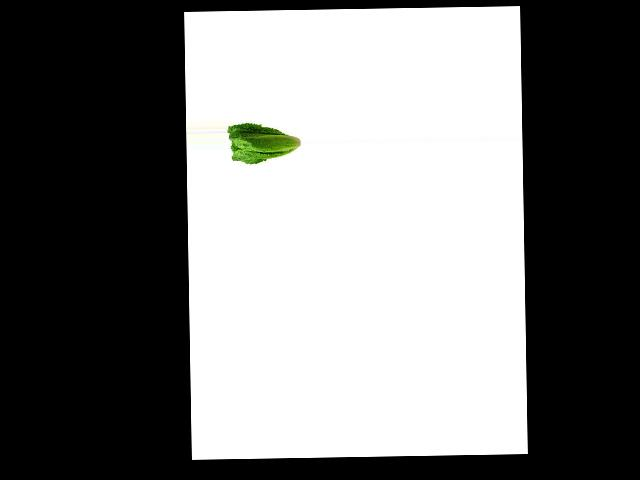lettuce: (227, 120, 300, 169)
